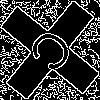C: (25, 25, 84, 82)
